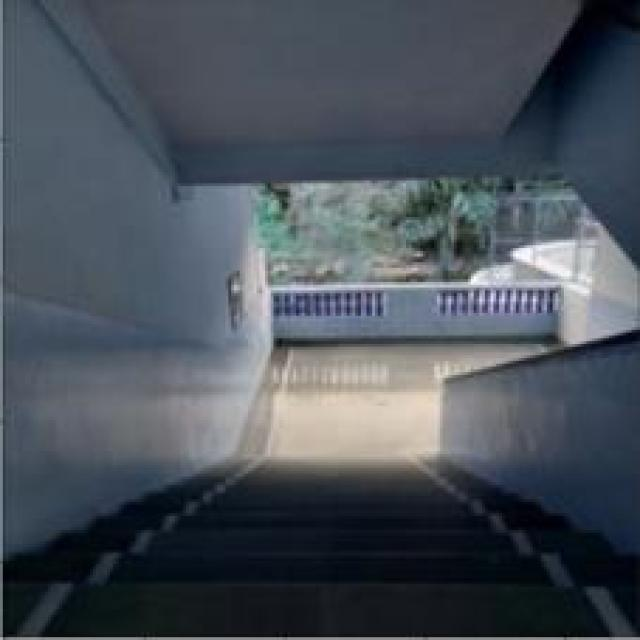stair: (145, 452, 461, 616)
